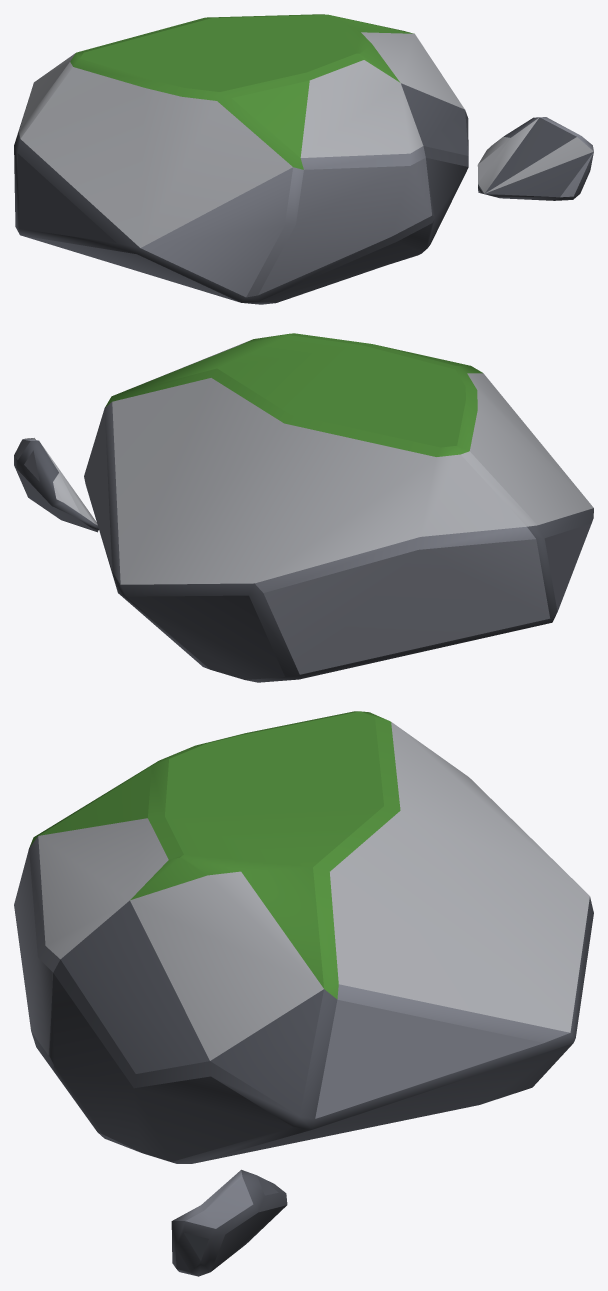
The model's file is Boulder_04.glb.
3 renders of one model, top to bottom at view 1: azimuth 30°, elevation 25°; view 2: azimuth 150°, elevation 25°; view 3: azimuth 270°, elevation 25°, orthographic. The views are drawn at different scales.
Visible parts, largest first — view 1: Boulder_04; view 2: Boulder_04; view 3: Boulder_04.
Part boxes in pixels (x1=…): Boulder_04: x1=14, y1=14, x2=593, y2=304; Boulder_04: x1=14, y1=333, x2=593, y2=682; Boulder_04: x1=14, y1=711, x2=593, y2=1276.
Size of the model in its own units: 5.73 by 2.06 by 3.97.
